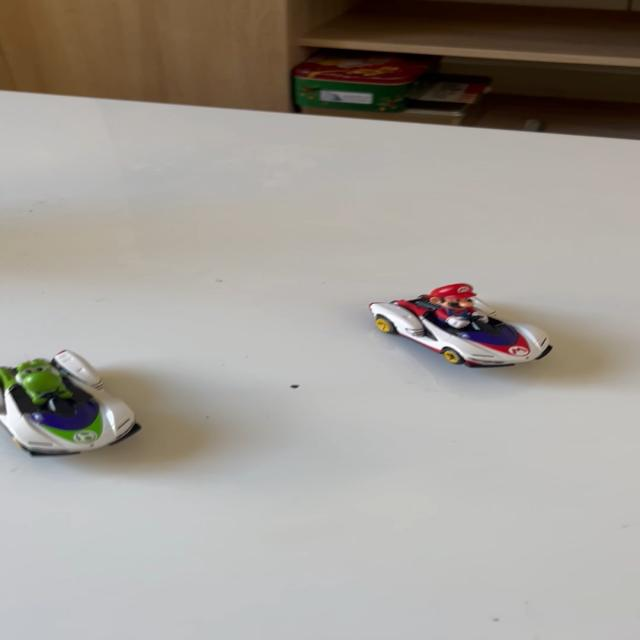mario: (346, 270, 572, 376)
yoshi: (0, 340, 168, 465)
